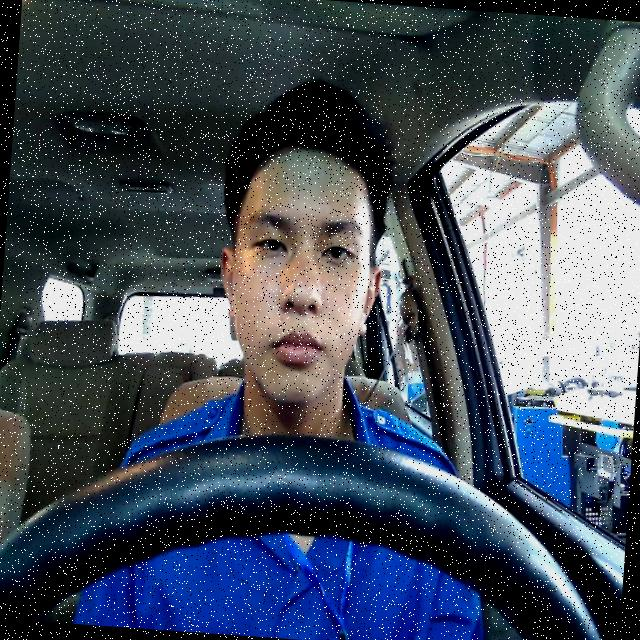focused: (208, 142, 388, 412)
